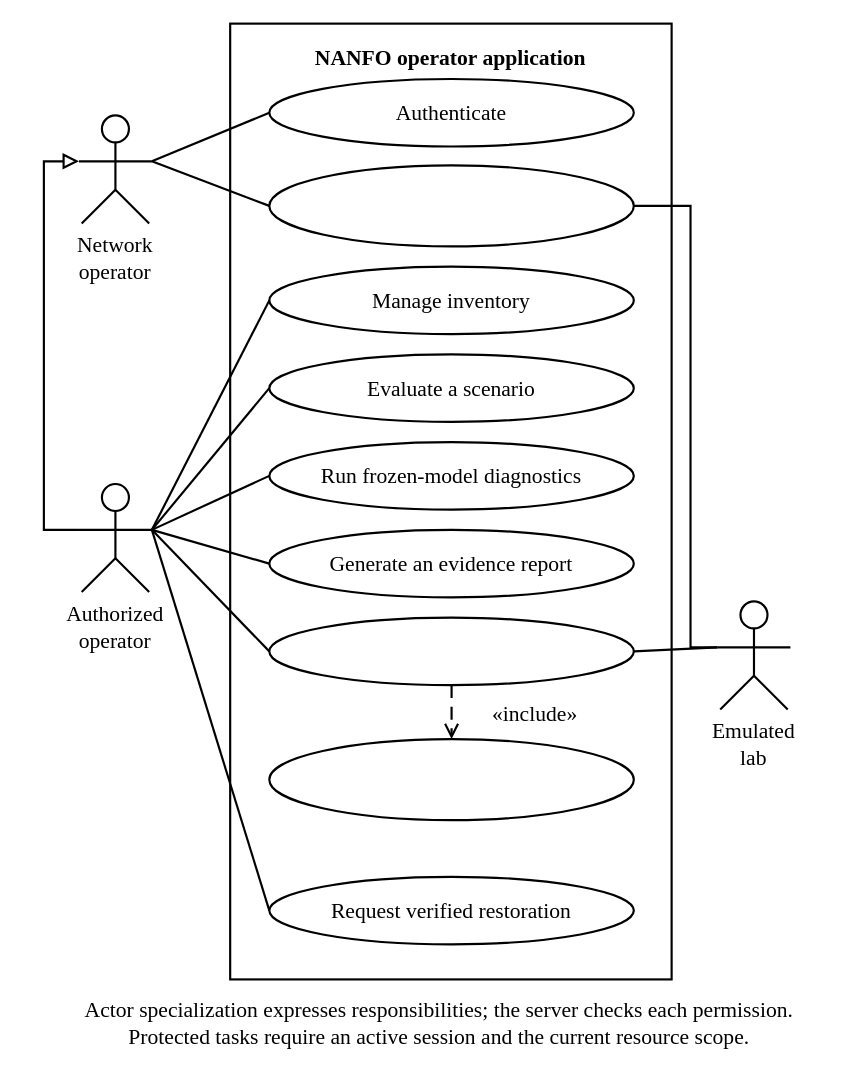
Some shapes in this 868 by 1075 pixel diagram are drawn without their labels. Here are the shapes that lost their labels. From the top down, the box of each, then its label:
(268, 164, 634, 247): Inspect topology, telemetry and incident evidence
(268, 616, 634, 686): Approve a manual action
(268, 737, 634, 821): Check current execution authority and evidence
